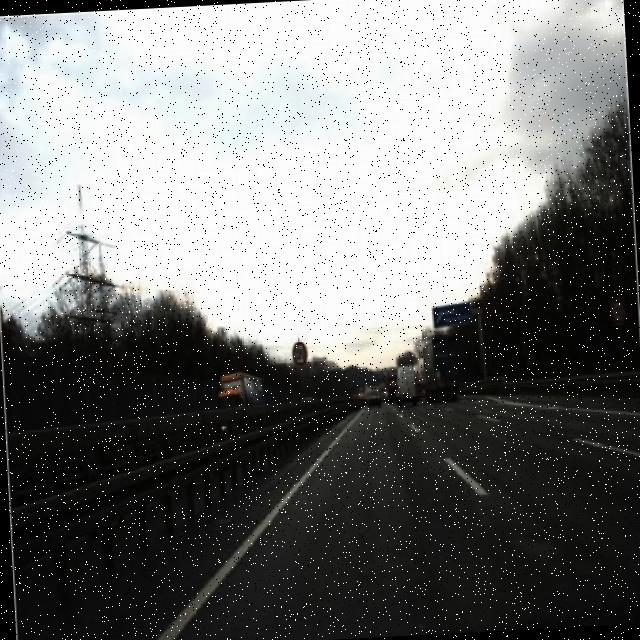Ograniczenie predkosci do 120: (606, 294, 628, 328), (290, 339, 311, 368)
